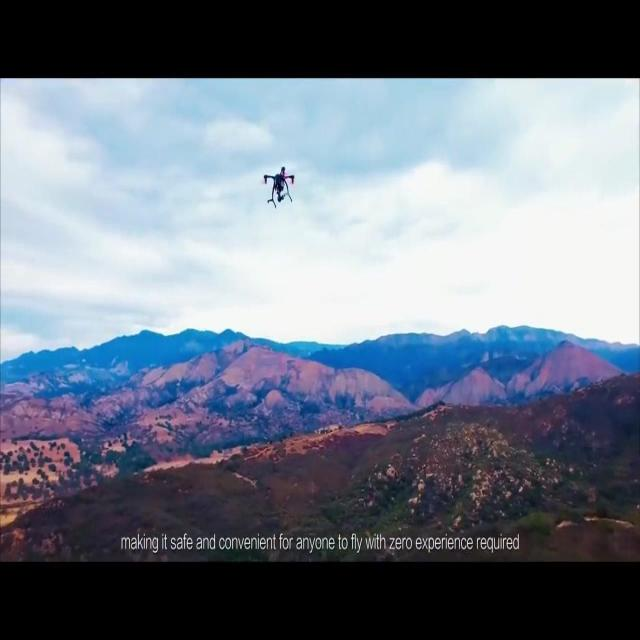UAV: (262, 166, 296, 212)
